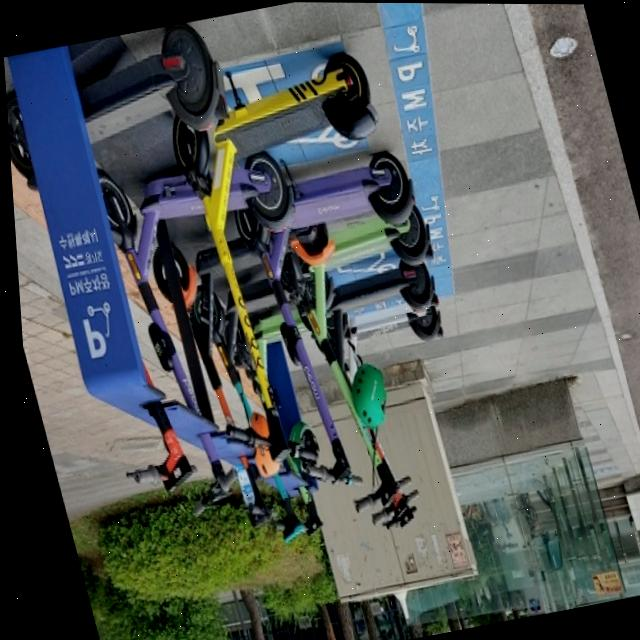kickboard_ok: (201, 13, 391, 158), (73, 18, 236, 168)
parking_zone: (3, 42, 158, 382)
